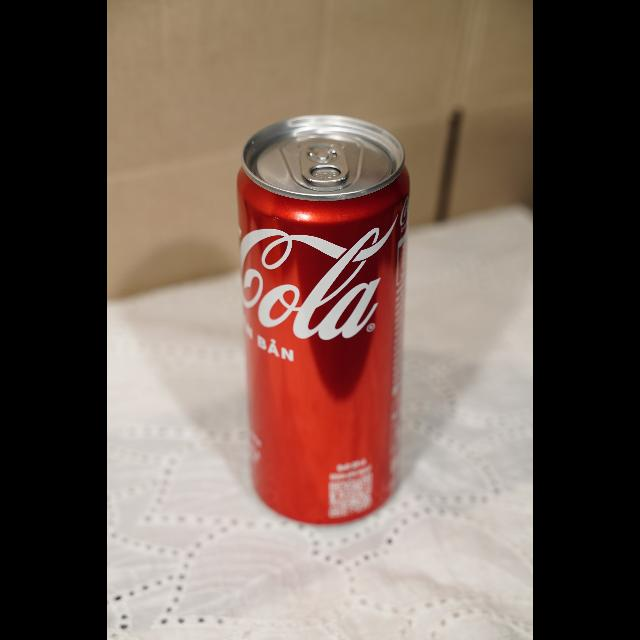coca_cola: (236, 114, 412, 526)
